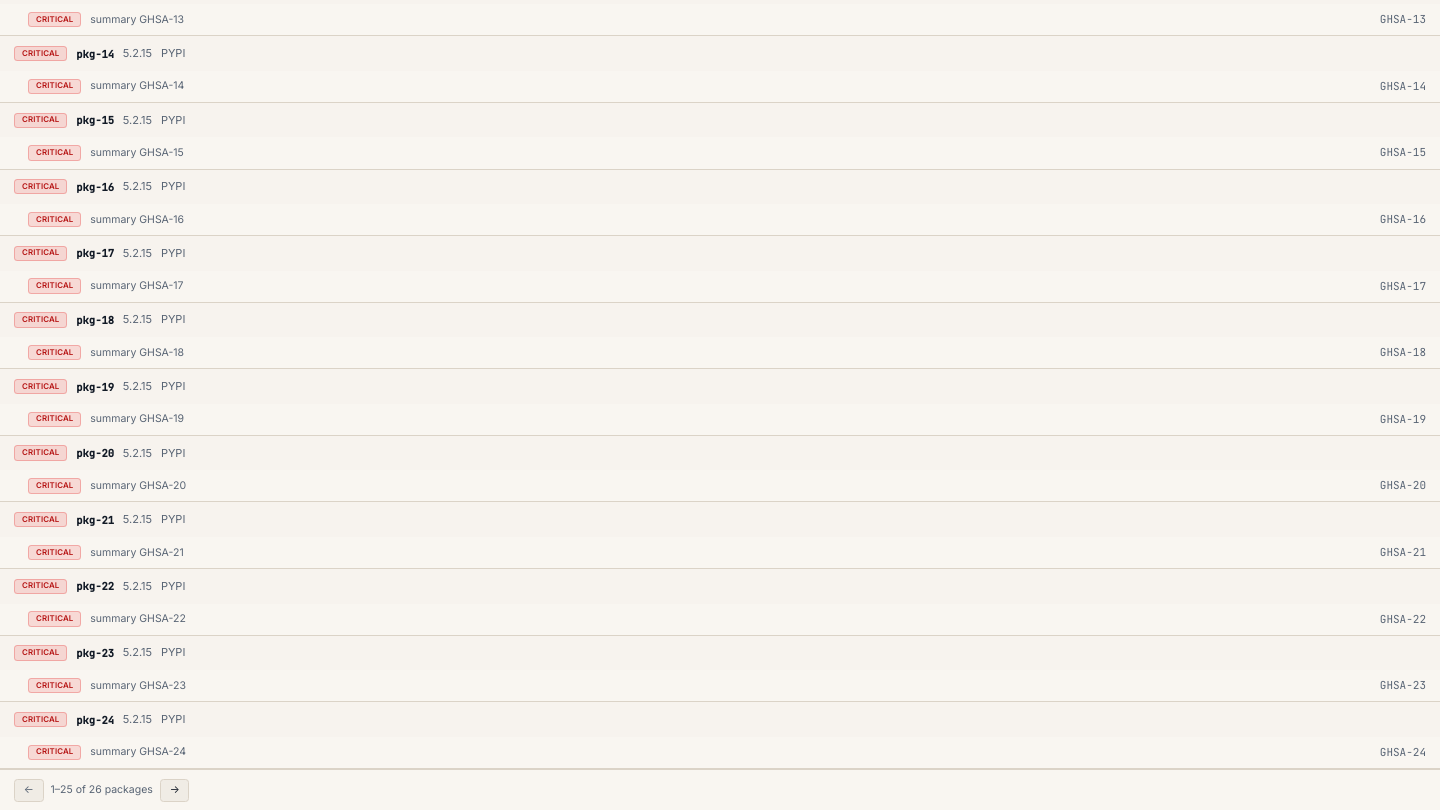
Test case: FindingsTable grouped by remediation › pages by package group, never splitting a package
The width and height of the screenshot is (1440, 810).
(page scrolled)
Expected: the text "1–25 of 26 packages" is shown, [50, 783, 153, 797]
Expected: the text "summary X1" is not shown
What coordinates should you click on to do the following:
click the button "→"
I would click on:
 (175, 790)
Its box is [160, 779, 189, 802].
(page scrolled)
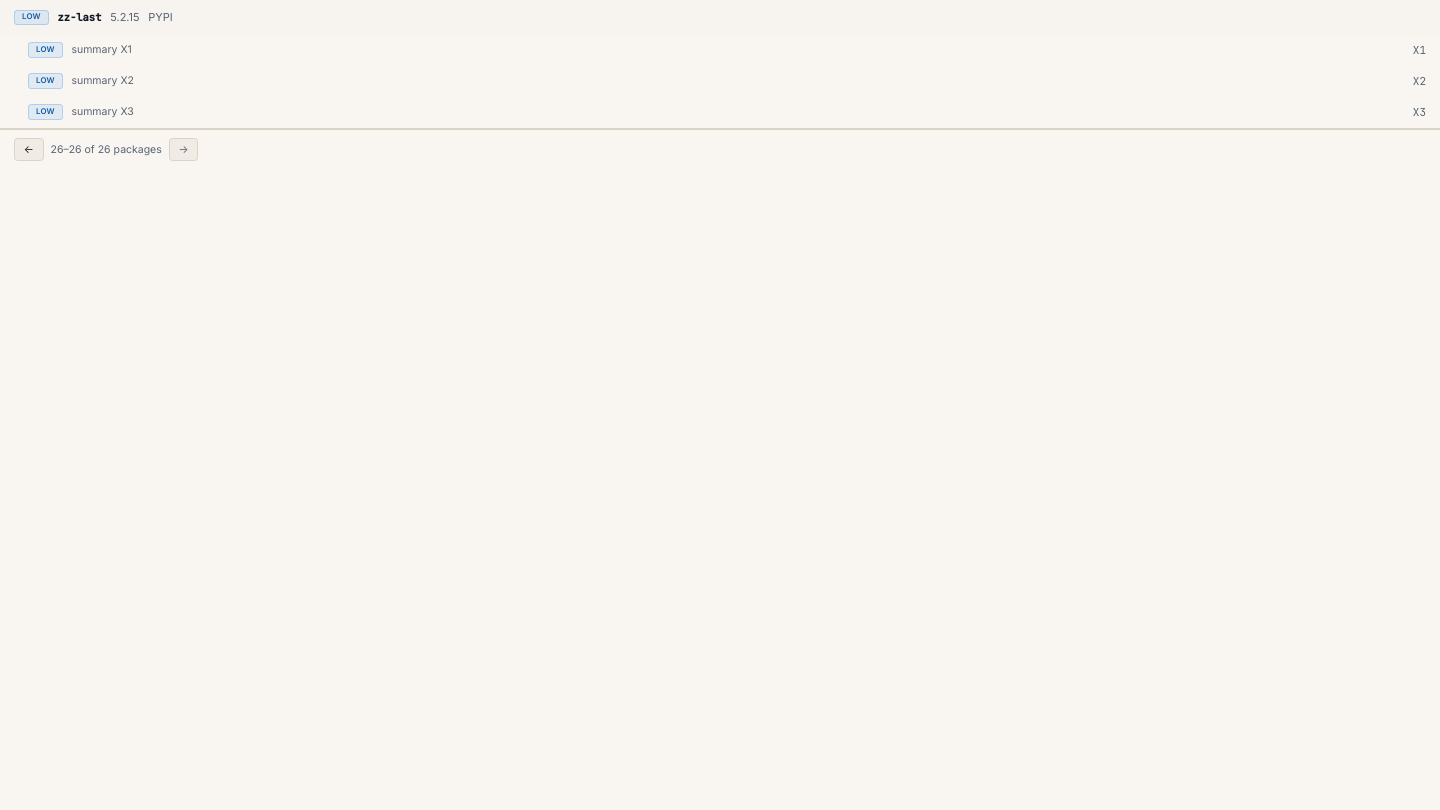
Now the text "26–26 of 26 packages" is shown, box [50, 143, 162, 157]
Now the text "summary X1" is shown, box [71, 43, 132, 56]
Now the text "summary X3" is shown, box [71, 105, 134, 118]
